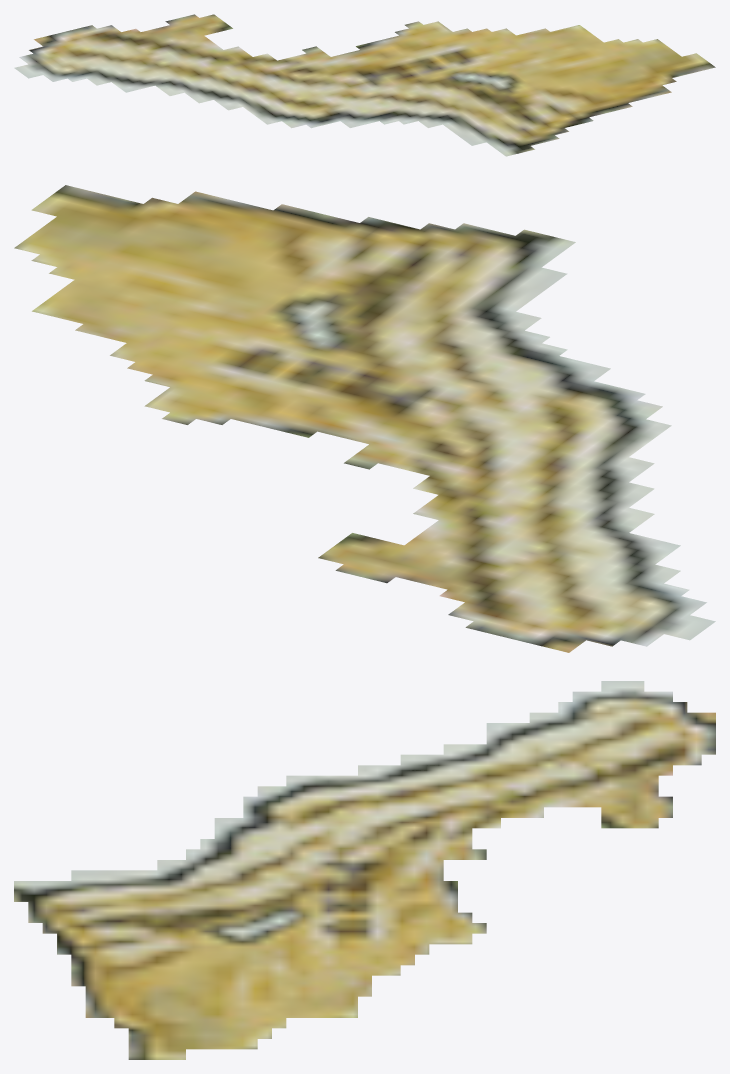
Rendered from peru.gltf.
The picture shows the model from 3 angles, top to bottom: view 1: azimuth 30°, elevation 25°; view 2: azimuth 150°, elevation 25°; view 3: azimuth 270°, elevation 25°; orthographic projection. The views are drawn at different scales.
Visible parts, largest first — view 1: Plane; view 2: Plane; view 3: Plane.
Boxes of the visible parts, left/top/right/bottom form: Plane: left=14, top=14, right=715, bottom=156; Plane: left=14, top=185, right=715, bottom=652; Plane: left=14, top=681, right=715, bottom=1059.
Bounding box in the file's own units: 0.3554 × 0 × 0.2783.
1 material, 1 textured.
